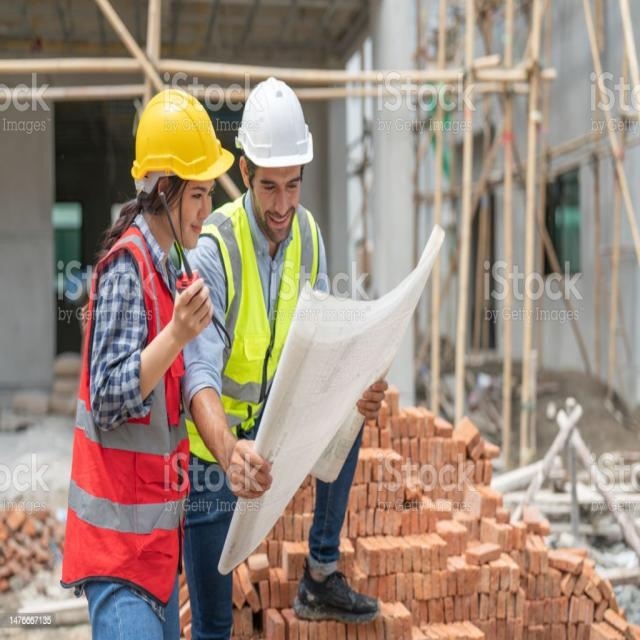helmet: (124, 74, 236, 203), (238, 73, 325, 180)
no-goggles: (257, 171, 304, 201), (170, 182, 214, 210)
vest: (69, 216, 189, 595), (196, 192, 310, 452)
